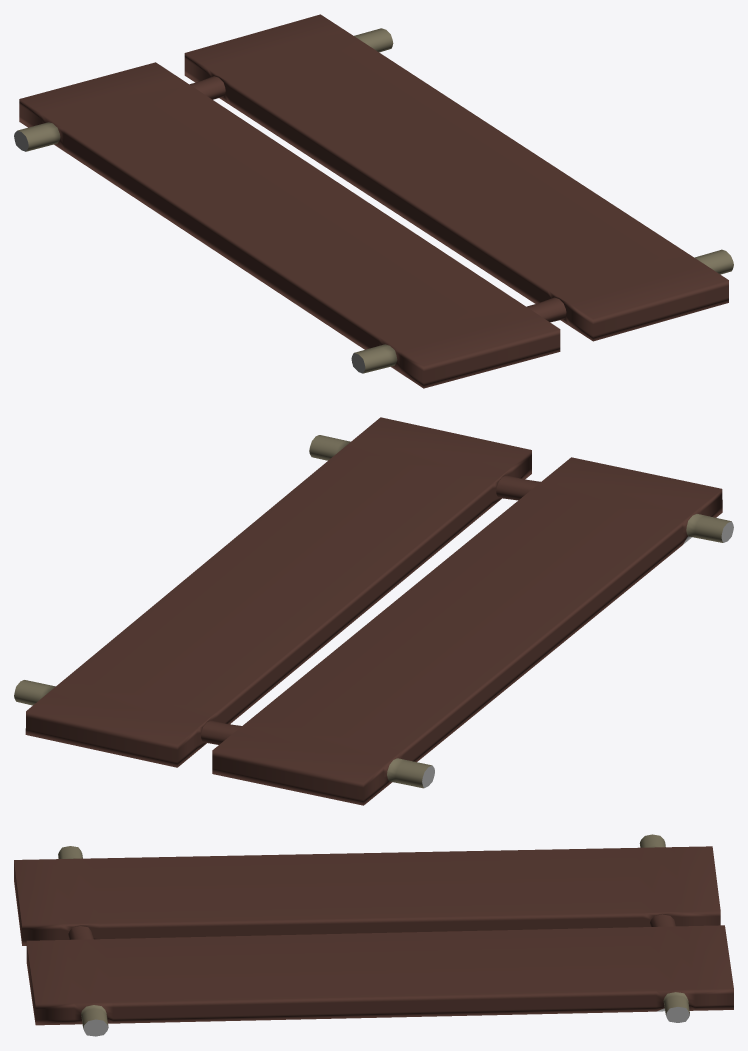
Rendered from Bridge Planks.fbx.
3 renders of one model, top to bottom at view 1: azimuth 30°, elevation 25°; view 2: azimuth 150°, elevation 25°; view 3: azimuth 270°, elevation 25°, orthographic. The views are drawn at different scales.
Parts seen in each view (by area): view 1: Bridge4; view 2: Bridge4; view 3: Bridge4.
Boxes of the visible parts, bbox=[...] form: Bridge4: bbox=[14, 14, 733, 388]; Bridge4: bbox=[14, 417, 733, 805]; Bridge4: bbox=[14, 834, 733, 1036].
Bounding box in the file's own units: 67.02 × 3.69 × 110.
